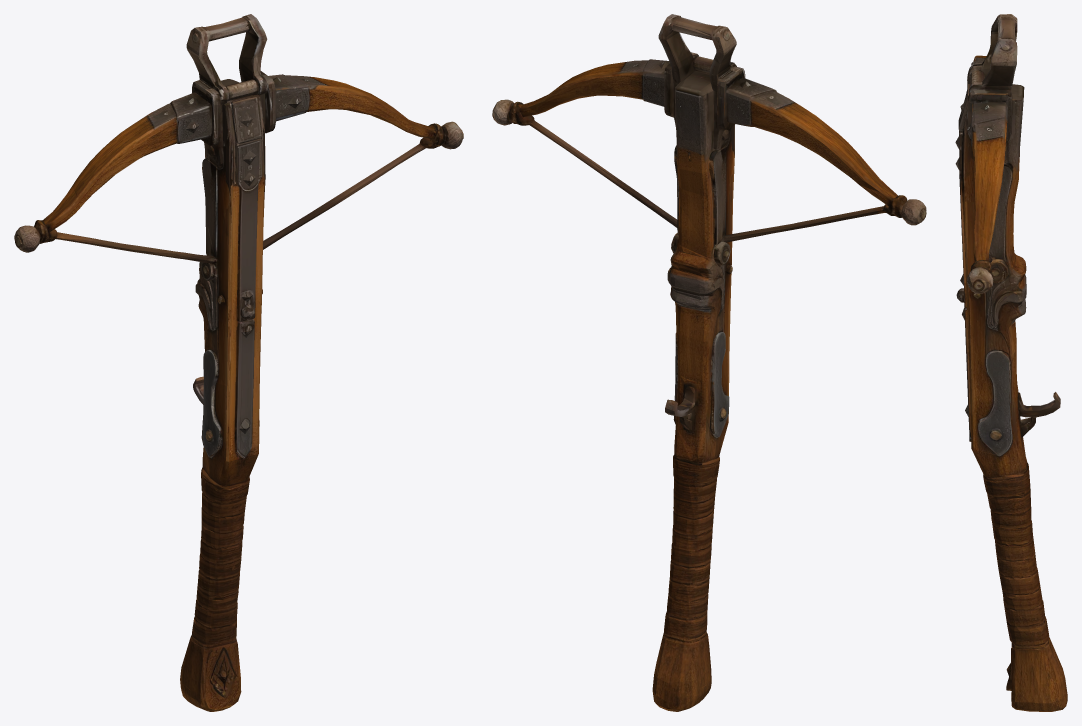
File: crossbow.glb
3 views of the same model, side by side, from view 1: azimuth 30°, elevation 25°; view 2: azimuth 150°, elevation 25°; view 3: azimuth 270°, elevation 25° (orthographic). The views are drawn at different scales.
Visible parts, largest first — view 1: crossbow; view 2: crossbow; view 3: crossbow.
Boxes of the visible parts, left/top/right/bottom form: crossbow: left=14, top=14, right=463, bottom=711; crossbow: left=492, top=14, right=926, bottom=711; crossbow: left=955, top=14, right=1067, bottom=711.
Bounding box in the file's own units: 0.6022 × 0.8997 × 0.1347.
1 material, 1 textured.
